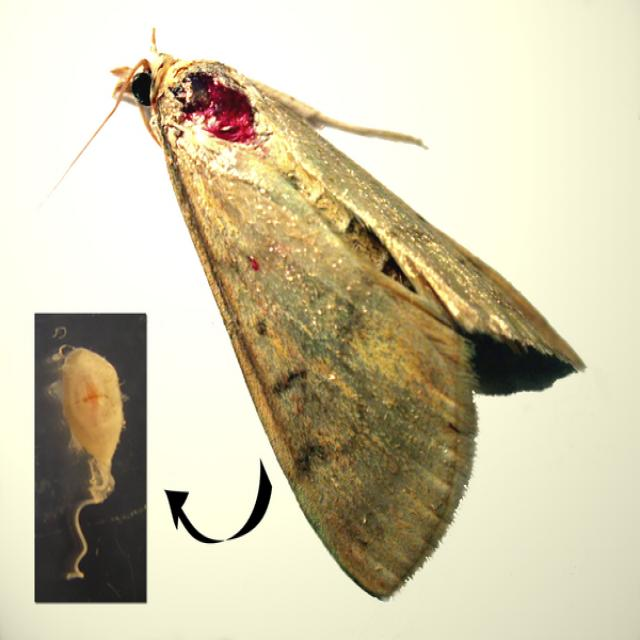cornborer-Adult-: (107, 19, 601, 595)
